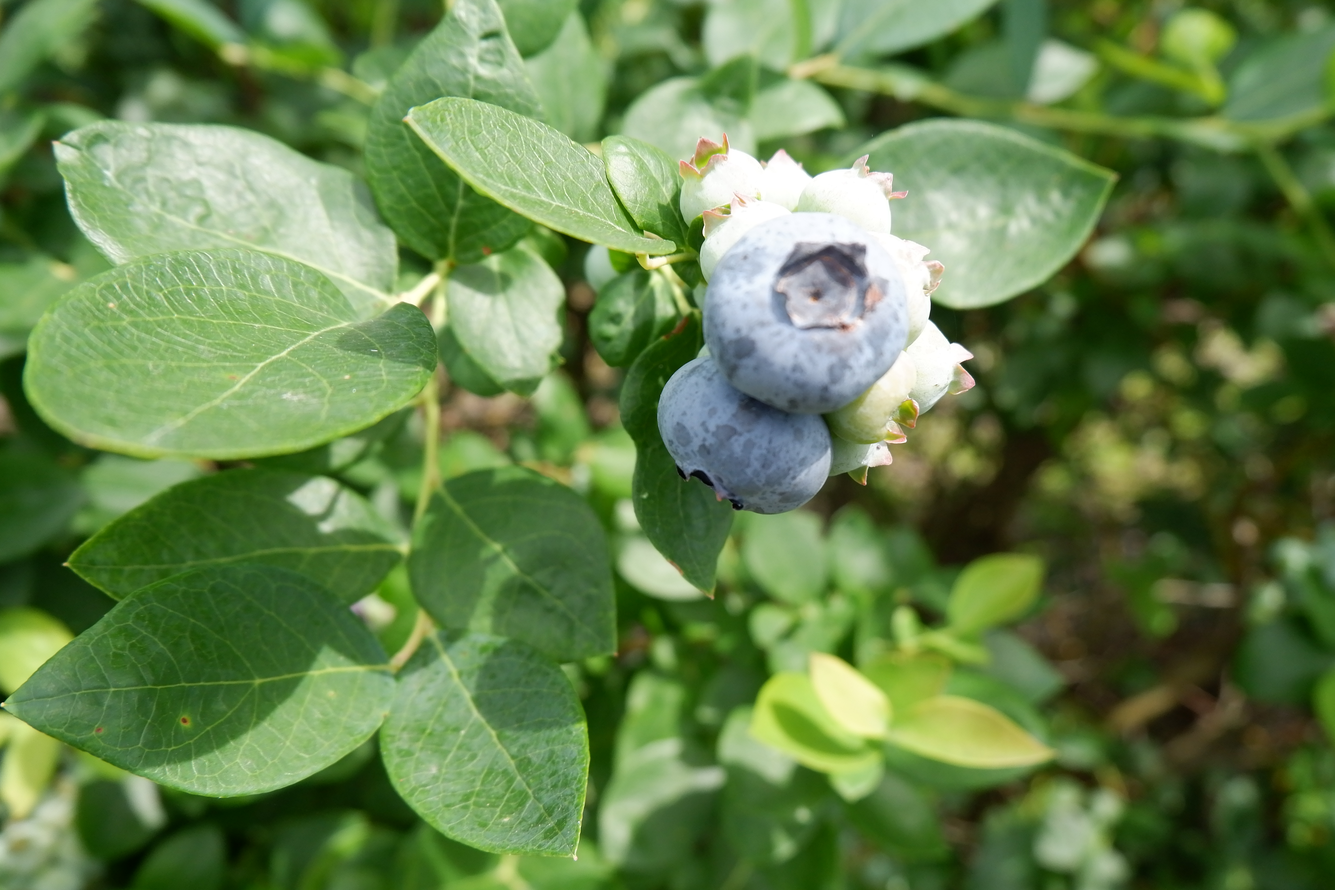Immature: (831, 351, 917, 442), (800, 160, 906, 233), (680, 134, 762, 226), (703, 198, 793, 281), (881, 233, 940, 338), (909, 322, 973, 413), (762, 149, 811, 210), (830, 433, 889, 482)
Mature: (706, 216, 909, 405), (658, 358, 831, 513)
